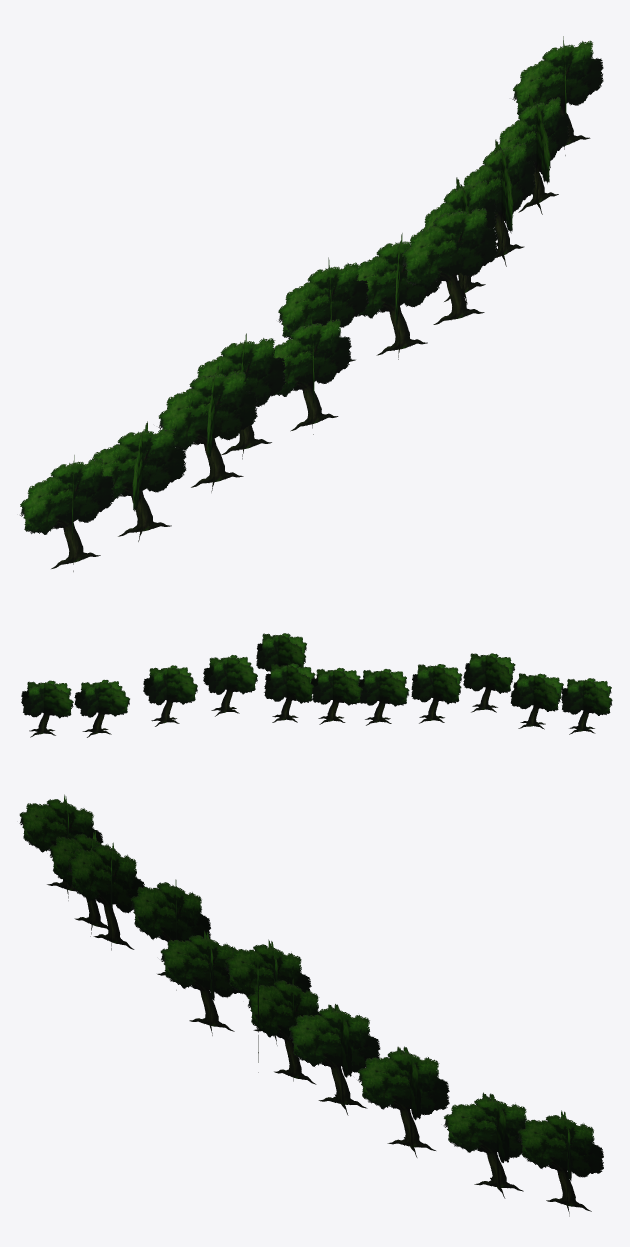
3 renders of one model, top to bottom at view 1: azimuth 30°, elevation 25°; view 2: azimuth 150°, elevation 25°; view 3: azimuth 270°, elevation 25°, orthographic. The views are drawn at different scales.
Visible parts, largest first — view 1: ki009_07_001; view 2: ki009_07_001; view 3: ki009_07_001.
Part boxes in pixels (x1,y1,x2,y2): ki009_07_001: (20,36,603,571); ki009_07_001: (21,633,612,737); ki009_07_001: (19,794,603,1216).
Size of the model in its own units: 127 by 21.53 by 85.26.
Materials: 1 (1 with a texture image).
